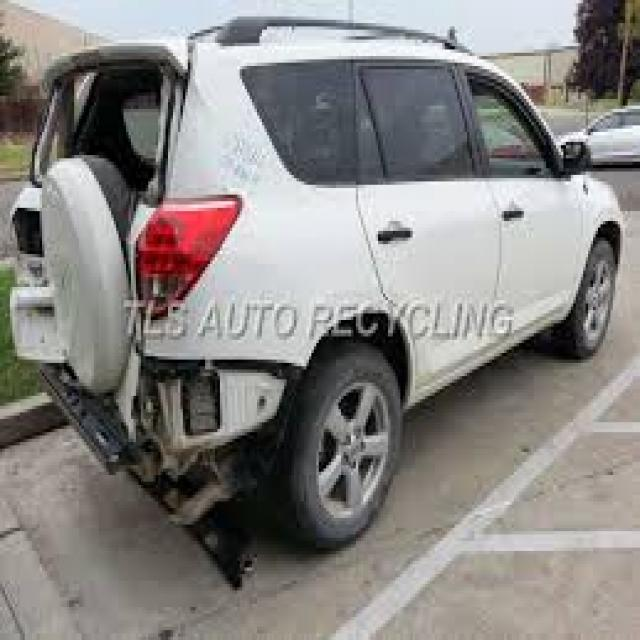moderate: (28, 218, 309, 551)
